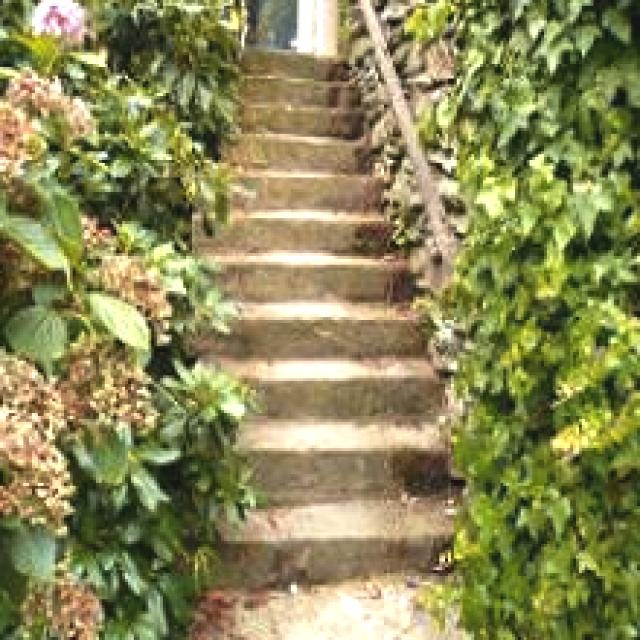upstair: (193, 205, 478, 554)
